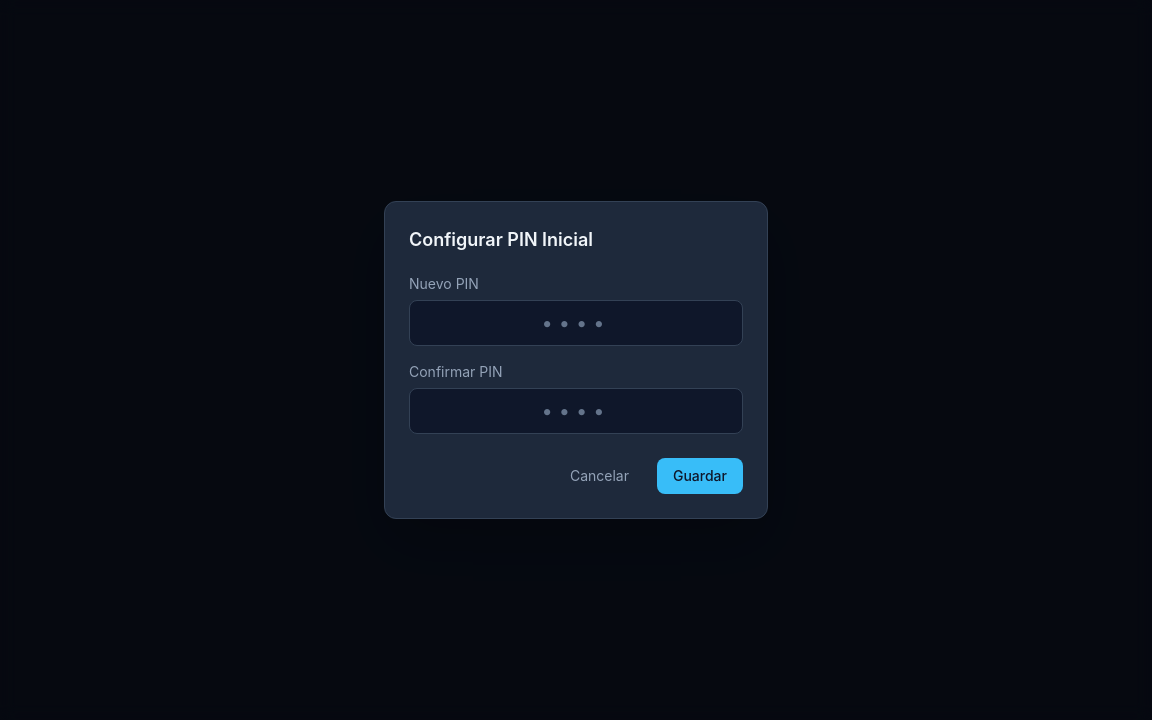
Test: PinDialog — setup mode (Req 2.4, 2.5) › should show error for invalid PIN format
Type "ab" into the password field with test id "pin-input-new" at (576, 323), box [409,300,743,346]
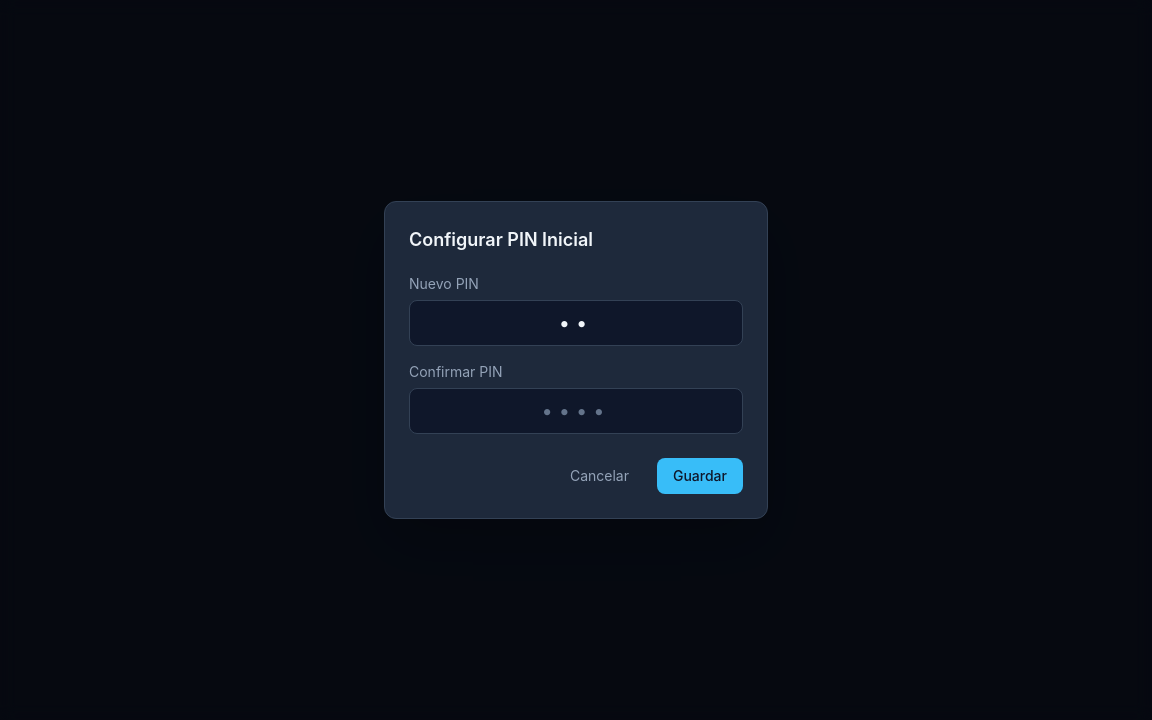
Type "ab" into the password field with test id "pin-input-confirm" at (576, 411), box [409,388,743,434]
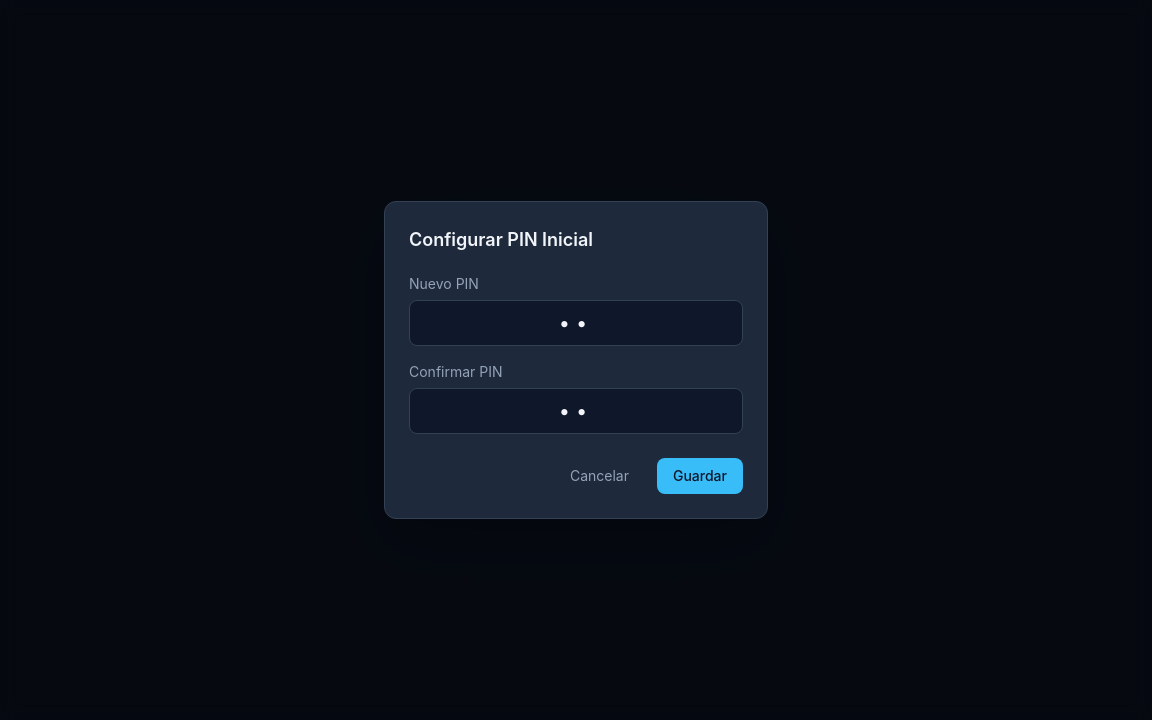
Click the button with test id "pin-dialog-submit" at (700, 476), box [657,458,743,494]
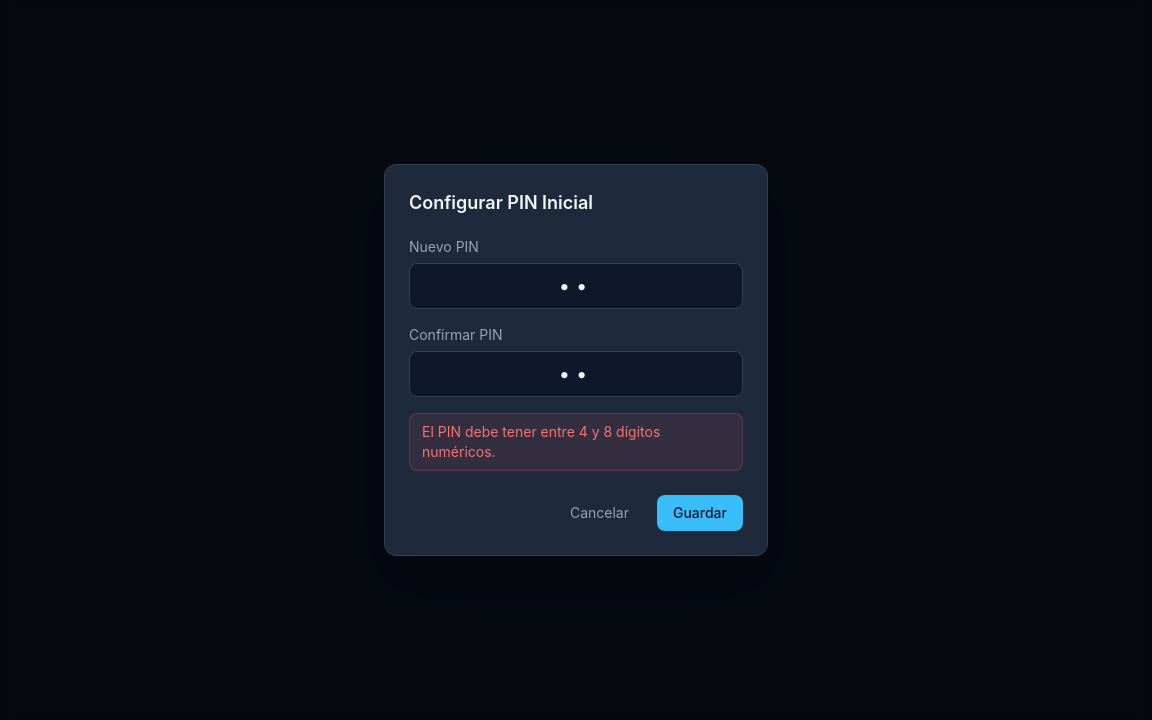
Result: the message with test id "pin-dialog-error" reads "El PIN debe tener entre 4 y 8 dígitos numéricos." at [422,423,660,460]
